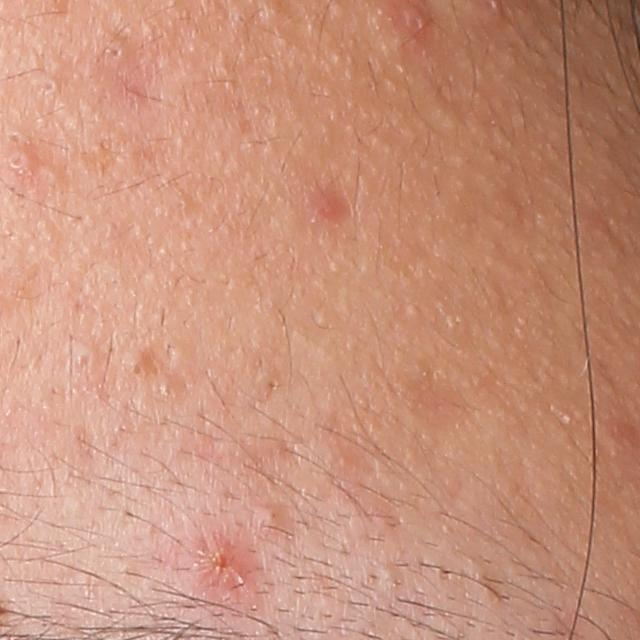comedo: (374, 558, 407, 586), (255, 367, 286, 395), (122, 352, 146, 379), (7, 128, 21, 143)
papule: (206, 542, 248, 595), (312, 192, 348, 219)
